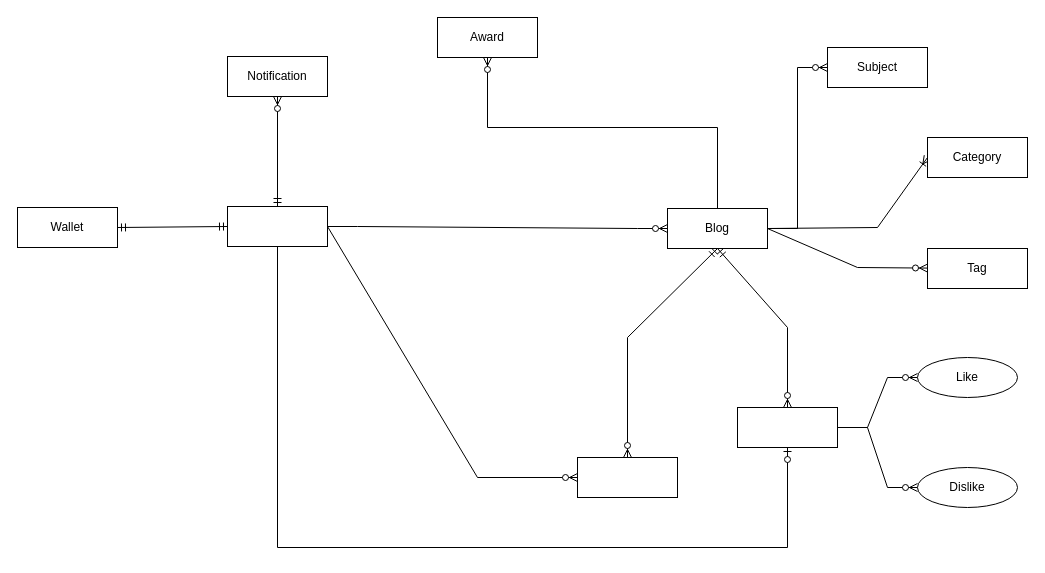
The diagram is 1045 pixels wide and 573 high, and some of its shapes have lost their labels. Here are the shapes that lost their labels. From the top down, the box of each, then its label:
(226, 206, 328, 246): User
(736, 406, 838, 448): Reaction
(576, 456, 678, 498): Comment
